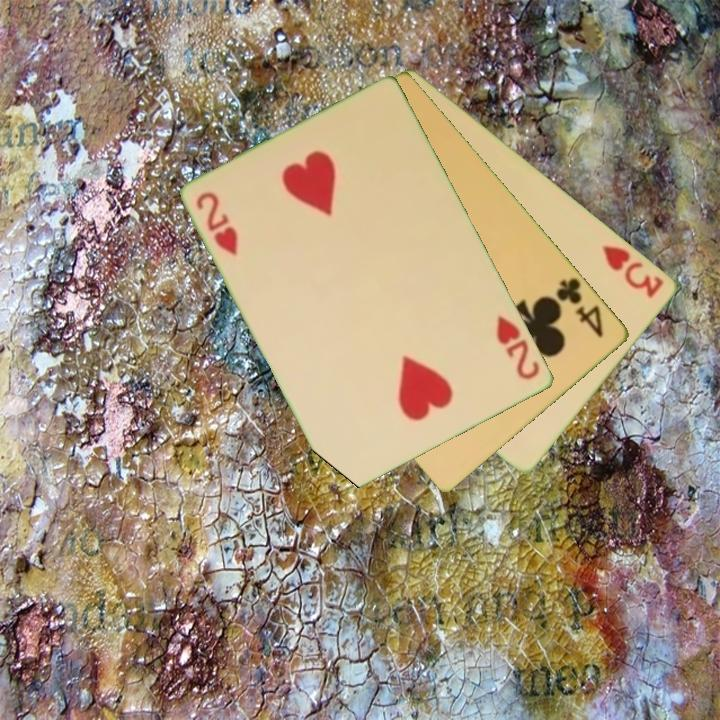2h: (493, 312, 543, 383), (193, 188, 242, 259)
3h: (598, 241, 667, 301)
4c: (553, 274, 607, 341)
